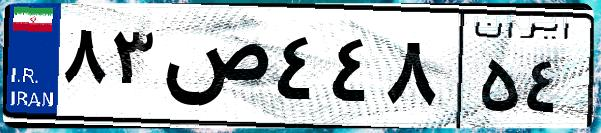3: (110, 28, 158, 98)
4: (270, 28, 330, 110), (330, 28, 385, 110), (525, 38, 570, 115)
5: (475, 38, 525, 113)
8: (385, 28, 445, 110), (57, 26, 110, 100)
ص: (158, 20, 270, 120)
